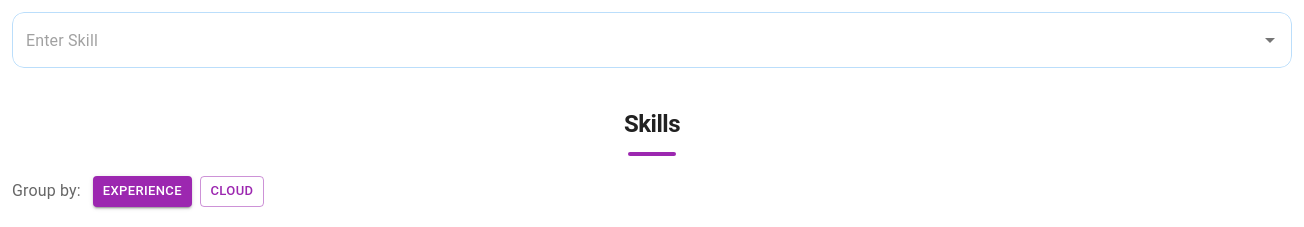
Test case: SkillsSection Component › Filter Type Dropdown › should change filter type to 'years' when 'Years of Experience' menu item is clicked
Click the button with test id "ArrowDropDownIcon" at (1270, 40), box [1250, 20, 1290, 60]
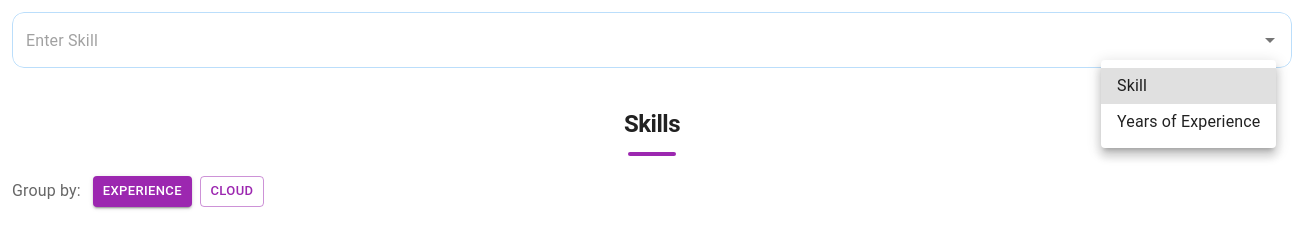
Click the menu item "Years of Experience" at (1189, 122), box [1117, 112, 1260, 131]
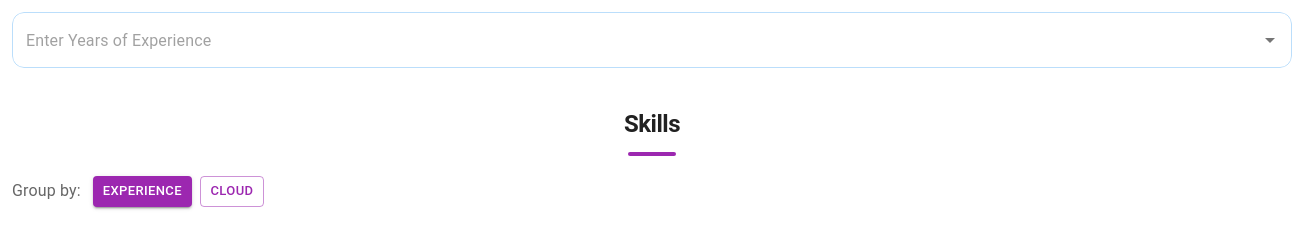
Now the field with placeholder "Enter Years of Experience" is shown, box [12, 12, 1242, 68]
